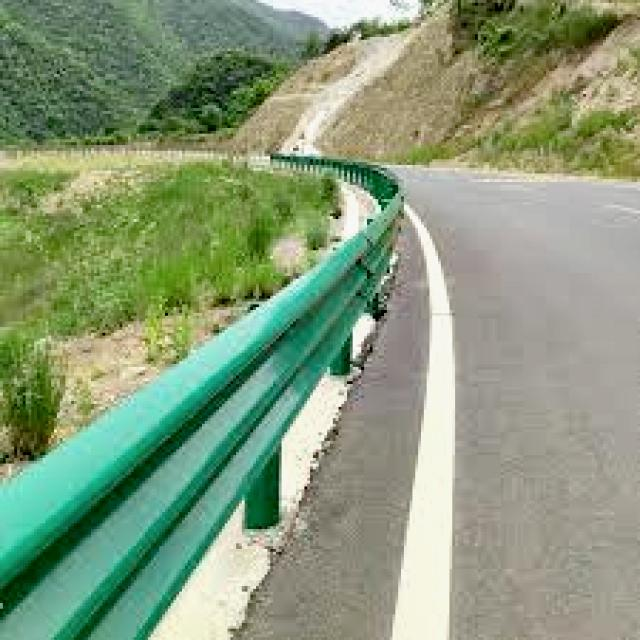Guard rail: (0, 156, 404, 639)
